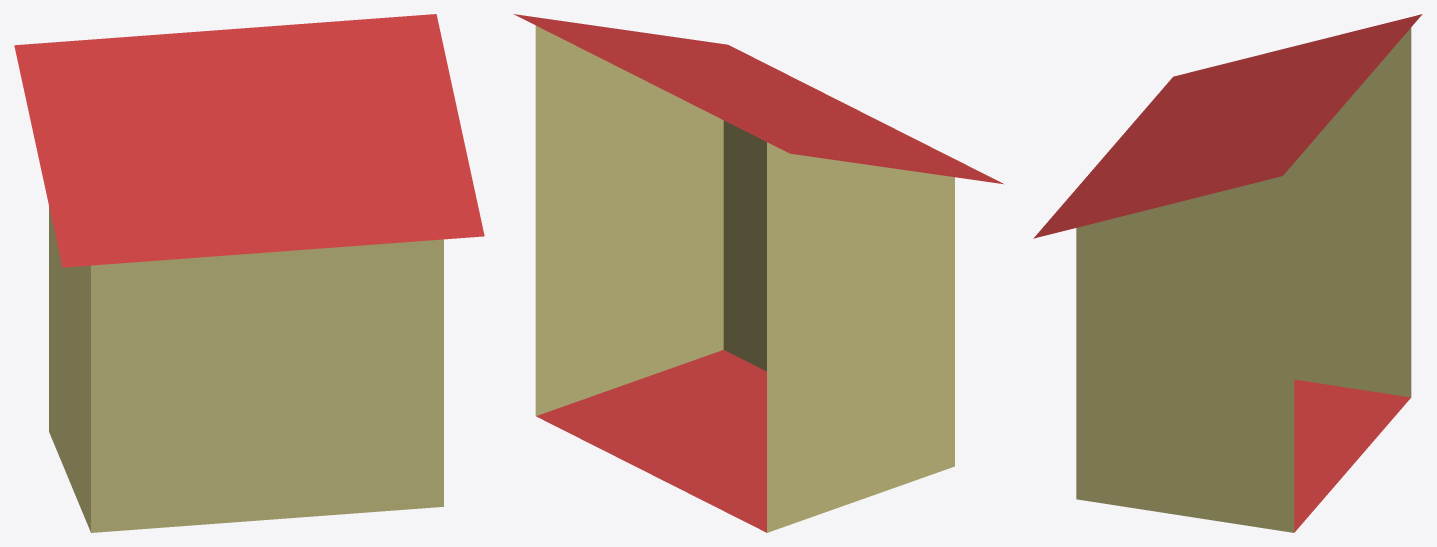
3 renders of one model, left to right at view 1: azimuth 30°, elevation 25°; view 2: azimuth 150°, elevation 25°; view 3: azimuth 270°, elevation 25°, orthographic. The views are drawn at different scales.
Bounding box in the file's own units: 10.62 × 8.71 × 9.14.
